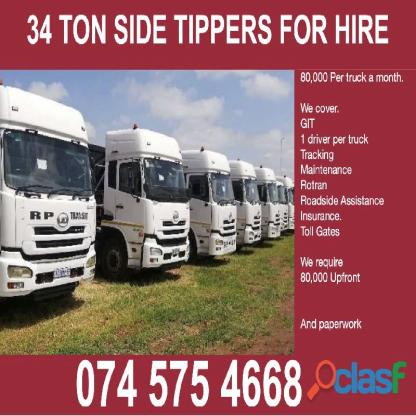dump_truck: (1, 78, 100, 317), (100, 110, 190, 298), (184, 130, 235, 280), (233, 152, 262, 262), (260, 162, 287, 253)
